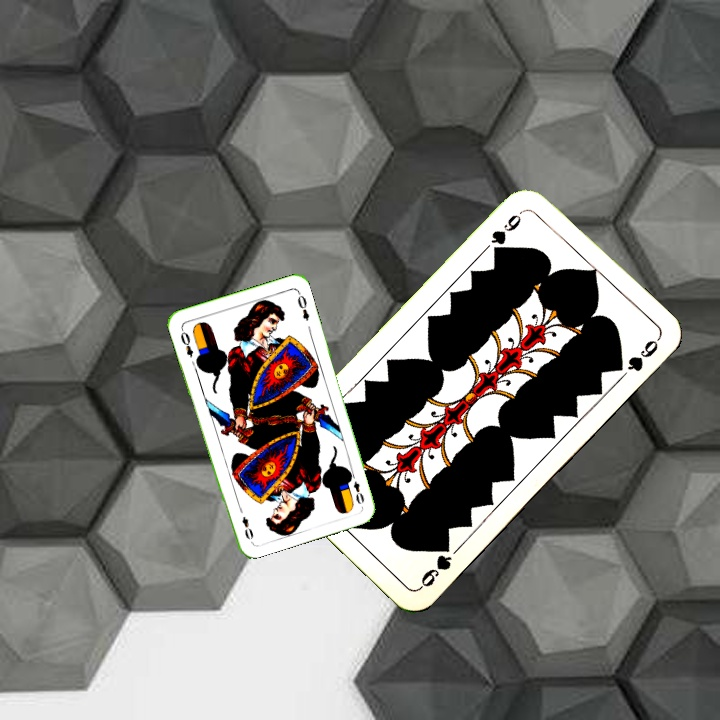EO: (345, 469, 367, 507), (177, 324, 196, 360)
G9: (415, 538, 454, 592), (487, 206, 527, 258)
